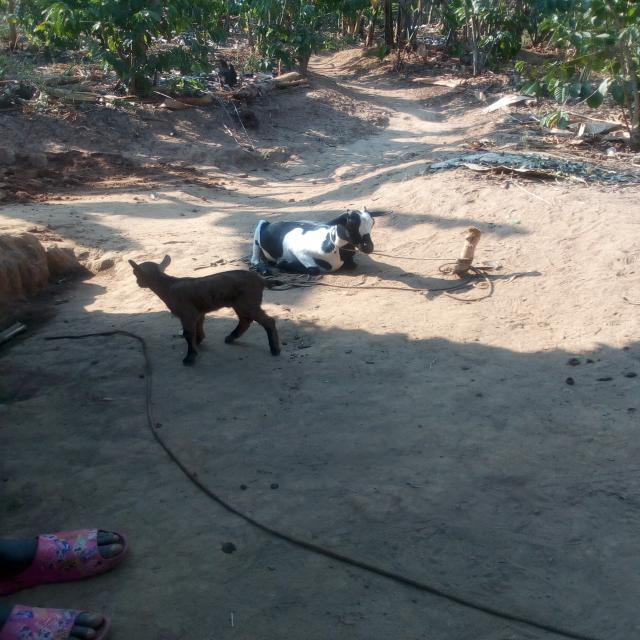goat: (217, 193, 417, 294)
